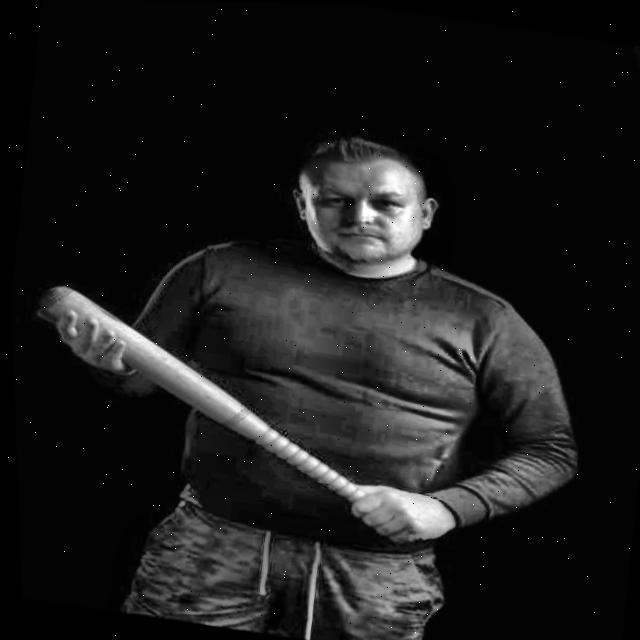tongkat pemukul: (25, 268, 459, 563)
